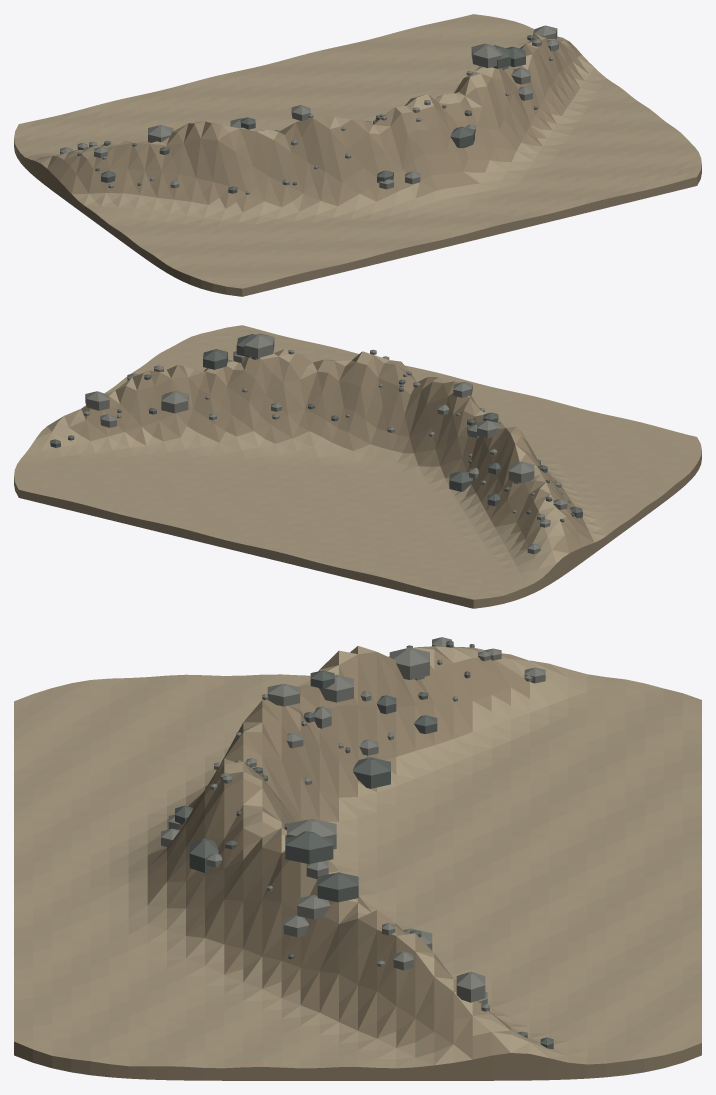
3 views of the same model, one above another, from view 1: azimuth 30°, elevation 25°; view 2: azimuth 150°, elevation 25°; view 3: azimuth 270°, elevation 25° (orthographic). The views are drawn at different scales.
Parts seen in each view (by area): view 1: broad_arcuate_terminal_debris_ridge_and_valley_floor, embedded_unsorted_angular_debris_boulders.001, embedded_unsorted_angular_debris_boulders; view 2: broad_arcuate_terminal_debris_ridge_and_valley_floor, embedded_unsorted_angular_debris_boulders.001, embedded_unsorted_angular_debris_boulders; view 3: broad_arcuate_terminal_debris_ridge_and_valley_floor, embedded_unsorted_angular_debris_boulders.001, embedded_unsorted_angular_debris_boulders.
Part boxes in pixels (x1,y1,x2,y2): broad_arcuate_terminal_debris_ridge_and_valley_floor: [14, 14, 701, 296]; embedded_unsorted_angular_debris_boulders.001: [60, 25, 558, 194]; embedded_unsorted_angular_debris_boulders: [77, 35, 537, 193]; broad_arcuate_terminal_debris_ridge_and_valley_floor: [14, 325, 701, 608]; embedded_unsorted_angular_debris_boulders.001: [83, 333, 582, 554]; embedded_unsorted_angular_debris_boulders: [50, 334, 582, 522]; broad_arcuate_terminal_debris_ridge_and_valley_floor: [14, 646, 701, 1080]; embedded_unsorted_angular_debris_boulders.001: [161, 637, 545, 1011]; embedded_unsorted_angular_debris_boulders: [175, 640, 553, 1049].
Bounding box in the file's own units: 54 × 9.6 × 40.
